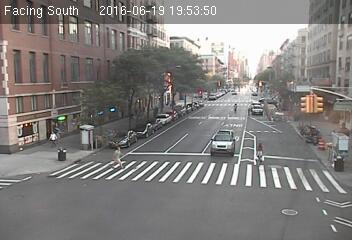neg: (305, 122, 321, 143), (292, 110, 305, 128)
pos: (108, 144, 129, 172)
